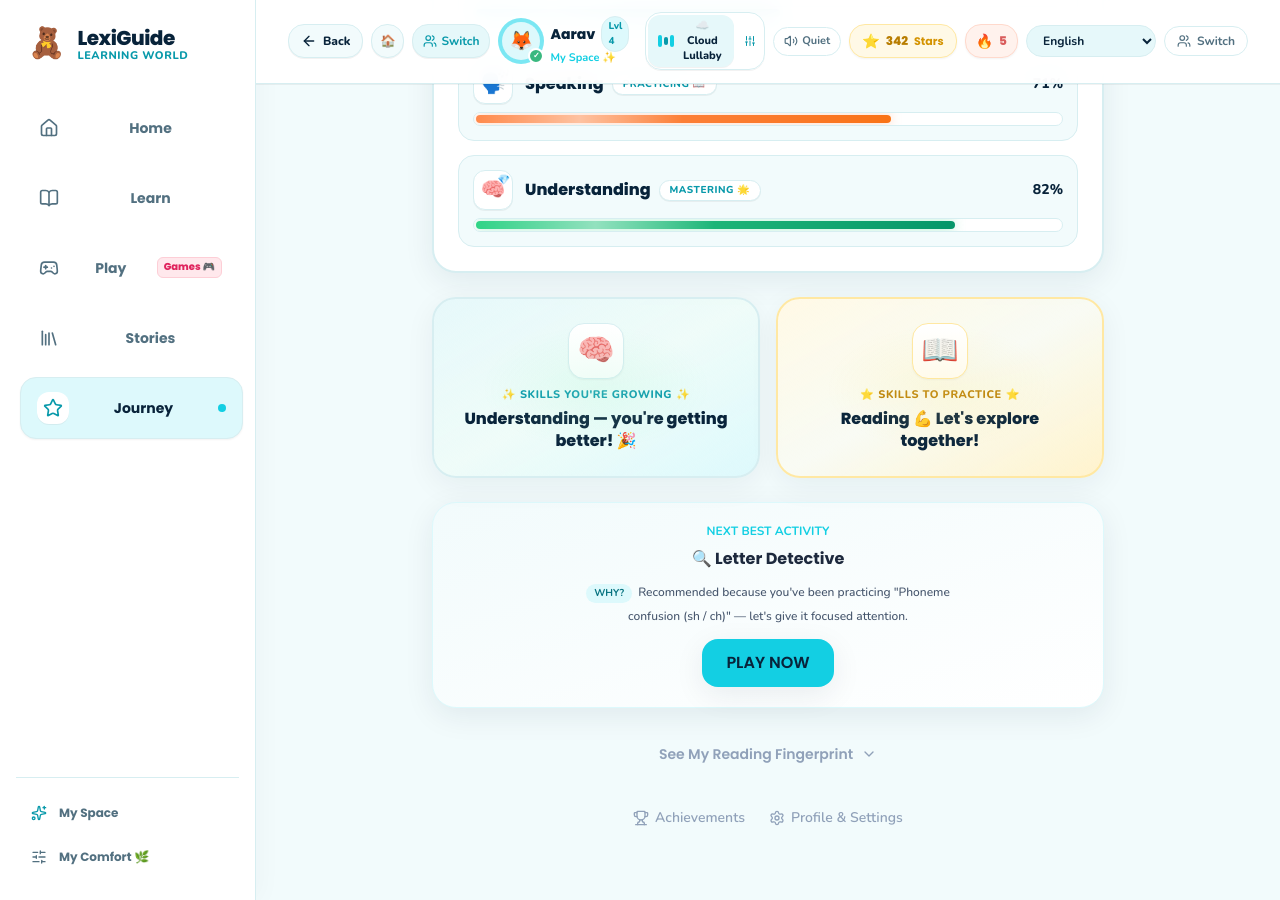
Test: Connected Learning Platform — Page Data Flow & Integration › 17. MyJourney toggles deep dive radar chart and skill breakdown
(page scrolled)
Click the button "See My Reading Fingerprint" at (768, 754), box x1=432 y1=732 x2=1104 y2=776
(page scrolled)
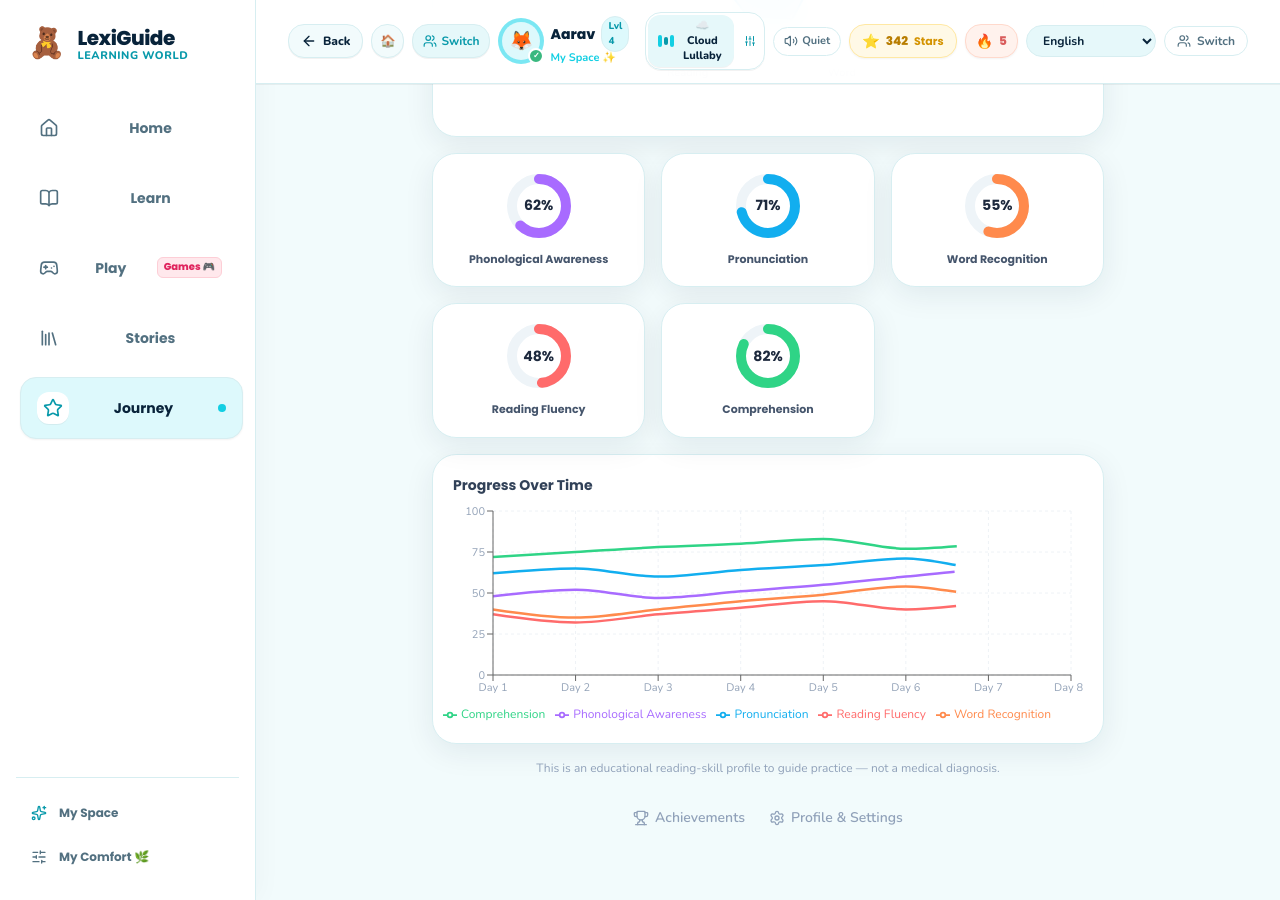
Check: the text "Progress Over Time" is shown, box x1=453 y1=475 x2=593 y2=495
